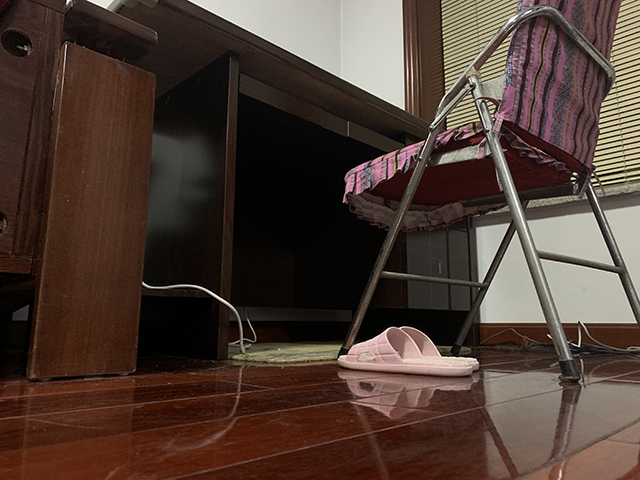carpet: (227, 339, 474, 365)
slippers: (335, 324, 481, 379)
stool: (337, 1, 640, 386)
table: (104, 1, 482, 363)
wire: (141, 281, 257, 356), (481, 318, 640, 356)
